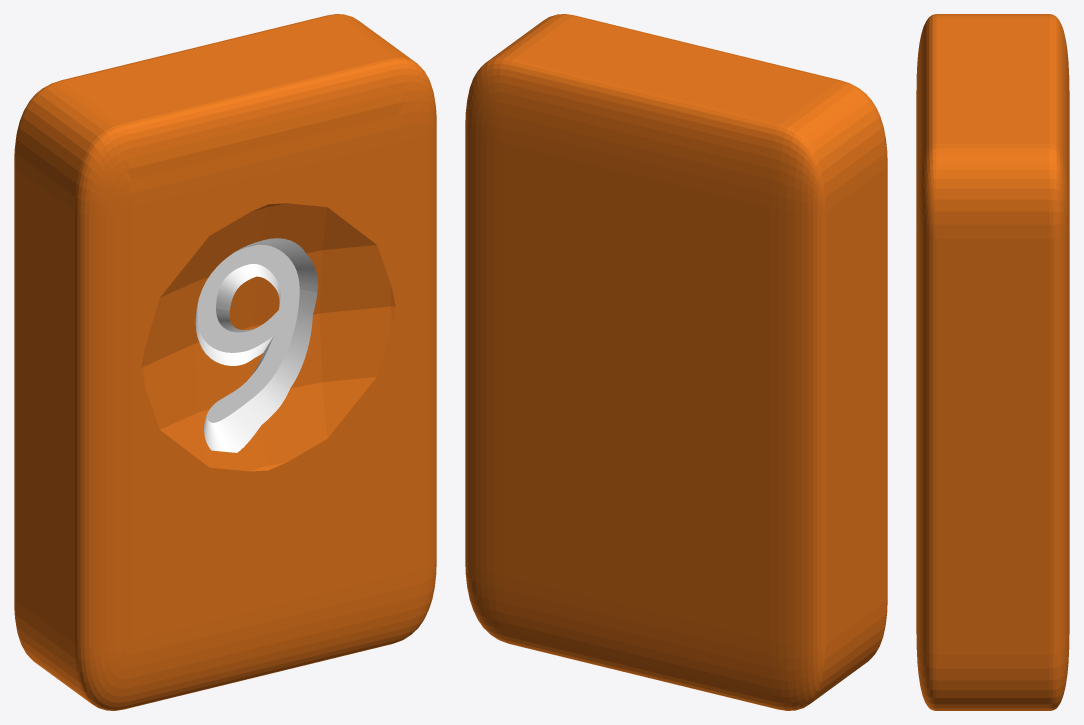
File: Rummikub Card 9.FBX
The picture shows the model from 3 angles, left to right: view 1: azimuth 30°, elevation 25°; view 2: azimuth 150°, elevation 25°; view 3: azimuth 270°, elevation 25°; orthographic projection. The views are drawn at different scales.
Parts seen in each view (by area): view 1: CardModel; view 2: CardModel; view 3: CardModel.
Boxes of the visible parts, x1,y1,x2,y2 form: CardModel: (14, 14, 436, 710); CardModel: (465, 14, 887, 710); CardModel: (916, 14, 1069, 710).
Bounding box in the file's own units: 44.87 × 69.66 × 17.19.
